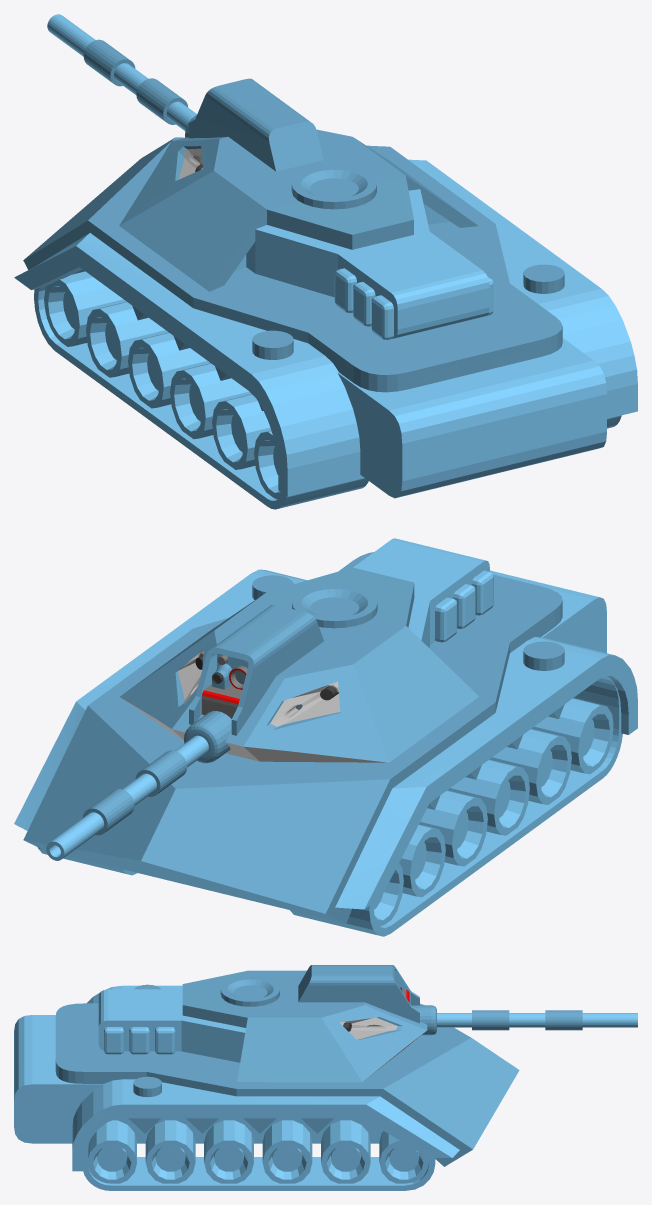
File: tank.obj
3 renders of one model, top to bottom at view 1: azimuth 30°, elevation 25°; view 2: azimuth 150°, elevation 25°; view 3: azimuth 270°, elevation 25°, orthographic. The views are drawn at different scales.
Parts seen in each view (by area): view 1: body, head; view 2: body, head; view 3: body, head.
Boxes of the visible parts, x1,y1,x2,y2 form: body: [14, 137, 637, 509]; head: [47, 14, 493, 339]; body: [14, 552, 637, 936]; head: [46, 538, 493, 860]; body: [14, 984, 519, 1190]; head: [98, 965, 637, 1082].
Bounding box in the file's own units: 1.09 × 0.6982 × 2.42.
